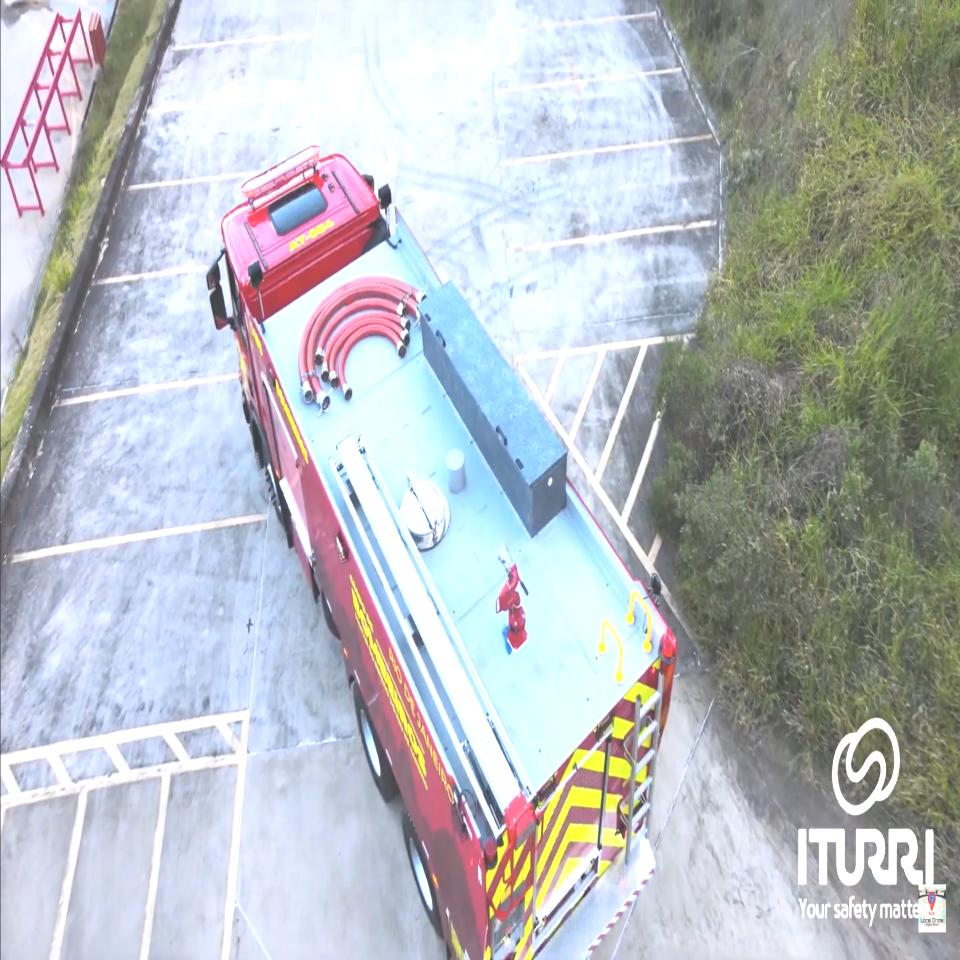bombeiro: (206, 138, 684, 959)
